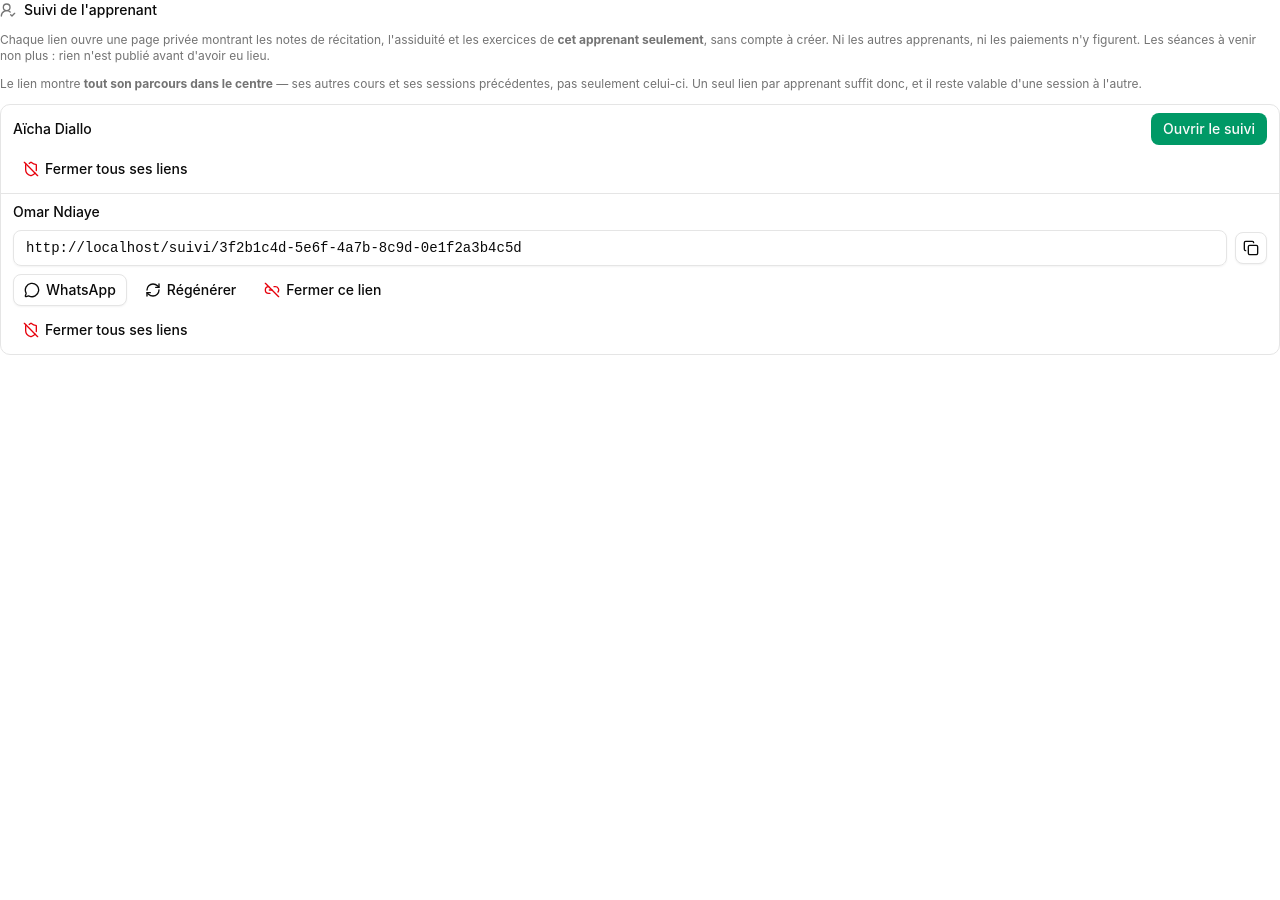
SectionSuiviApprenant › avertit que fermer un seul lien ne coupe pas forcément l’accès
The image size is (1280, 900).
Click the button "Fermer ce lien".
click(323, 290)  # box [254,274,391,306]
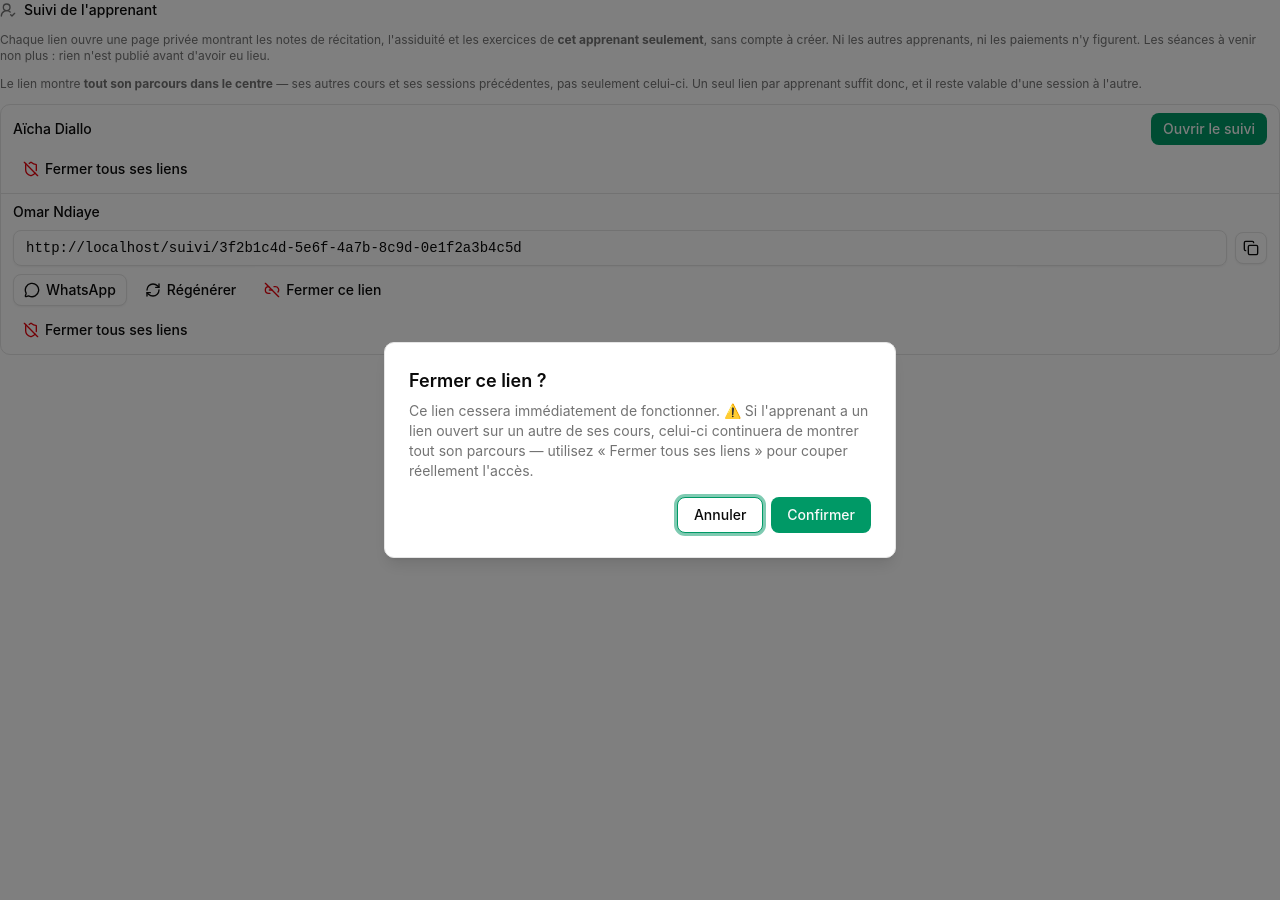
Result: the text "continuera de montrer tout son parcours" is shown at [409,402,868,479]
